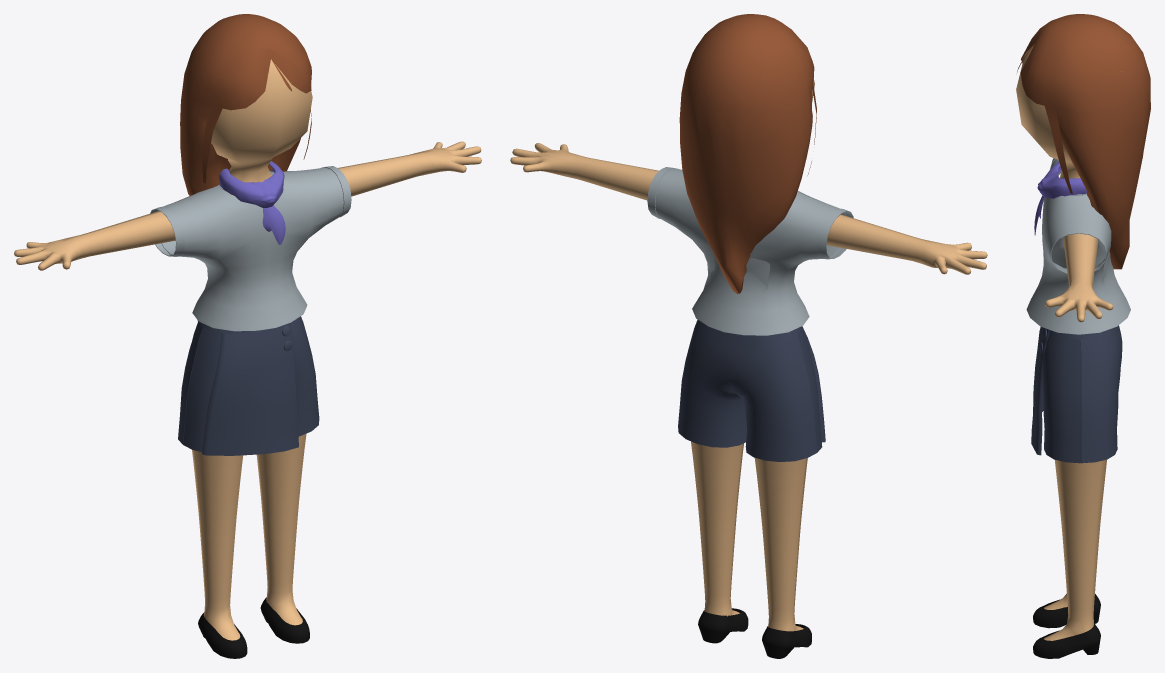
Rendered from Teacher.fbx.
3 renders of one model, left to right at view 1: azimuth 30°, elevation 25°; view 2: azimuth 150°, elevation 25°; view 3: azimuth 270°, elevation 25°, orthographic. The views are drawn at different scales.
Visible parts, largest first — view 1: teacher, teacher-tshirt, teacher-t-shirt1, teacher-shoes; view 2: teacher, teacher-tshirt, teacher-shoes; view 3: teacher, teacher-tshirt, teacher-shoes, teacher-t-shirt1.
Part boxes in pixels (left/top/right/bottom): teacher: left=14, top=14, right=481, bottom=640; teacher-tshirt: left=150, top=166, right=351, bottom=455; teacher-t-shirt1: left=219, top=161, right=285, bottom=244; teacher-shoes: left=198, top=597, right=309, bottom=658; teacher: left=510, top=14, right=987, bottom=631; teacher-tshirt: left=647, top=167, right=853, bottom=461; teacher-shoes: left=698, top=608, right=811, bottom=658; teacher: left=1016, top=14, right=1150, bottom=640; teacher-tshirt: left=1026, top=158, right=1130, bottom=463; teacher-shoes: left=1033, top=594, right=1100, bottom=658; teacher-t-shirt1: left=1034, top=162, right=1087, bottom=235.
Bounding box in the file's own units: 0.8282 × 1.04 × 0.2066.
